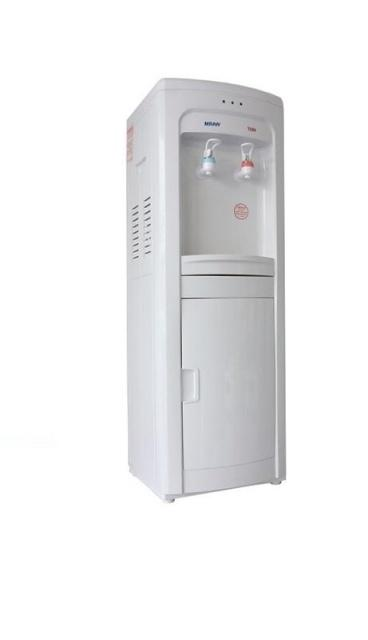Dispenser: (124, 76, 286, 502)
